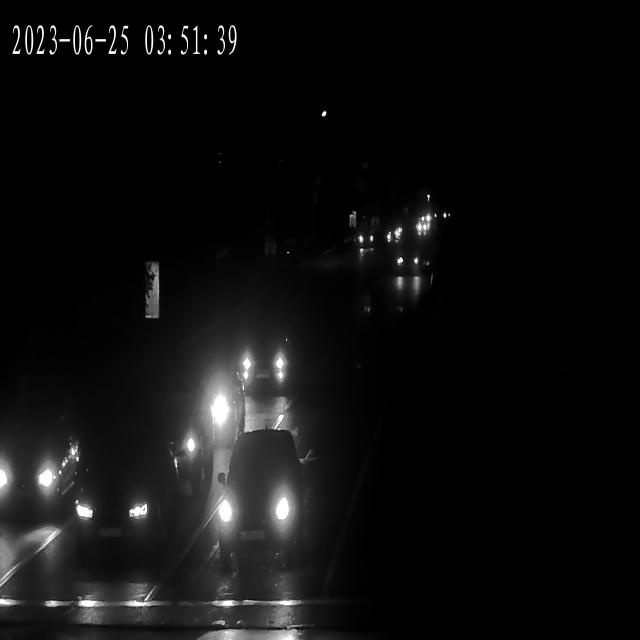Car: (213, 435, 304, 563), (71, 450, 170, 559), (2, 419, 80, 524), (160, 362, 250, 448), (237, 329, 290, 392), (393, 246, 422, 276), (354, 230, 375, 250), (384, 224, 403, 242), (384, 227, 402, 245), (414, 222, 431, 239), (414, 219, 431, 235), (415, 218, 432, 232), (416, 215, 432, 227)
